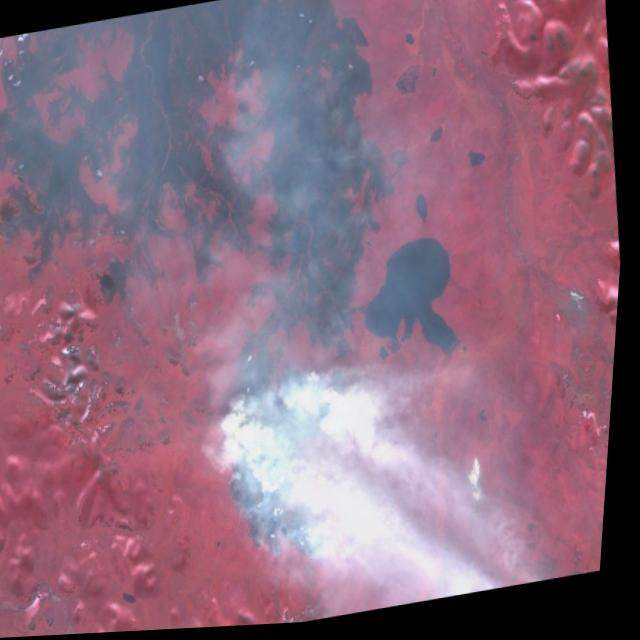fire: (212, 357, 389, 590)
